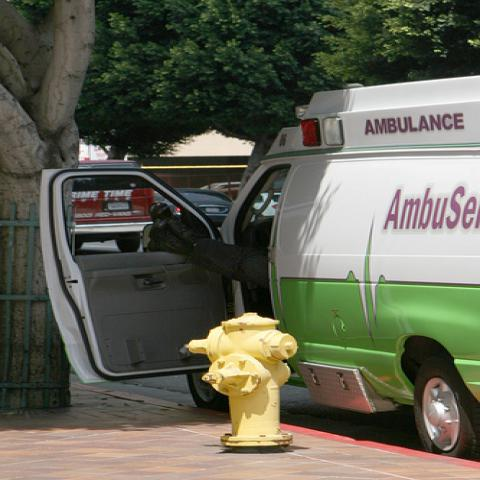car: (154, 188, 235, 227)
truck: (27, 74, 480, 456)
